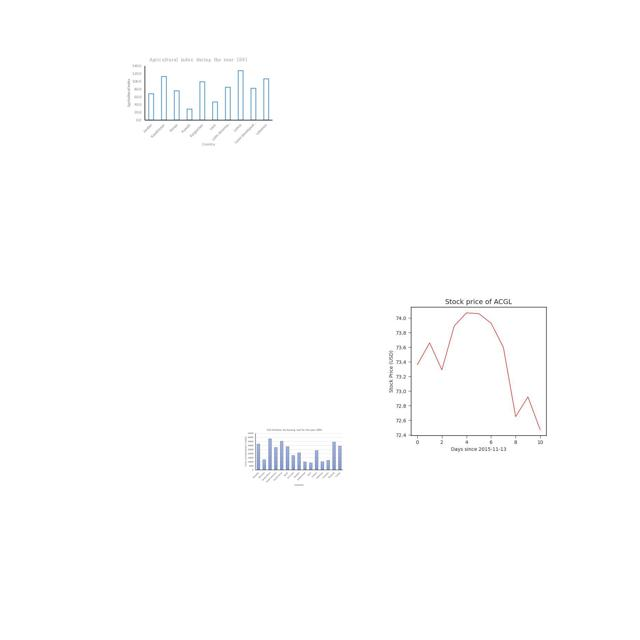Graph: (365, 287, 587, 454), (123, 54, 276, 147), (244, 428, 344, 487)
